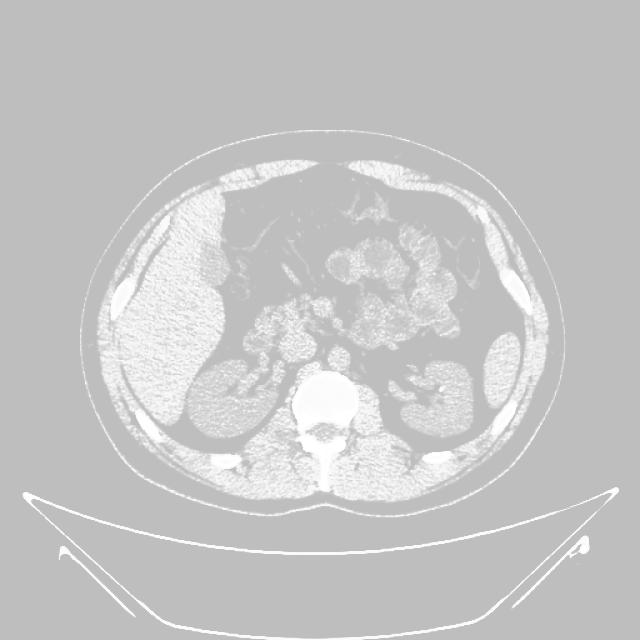STONE: (125, 123, 625, 362)
